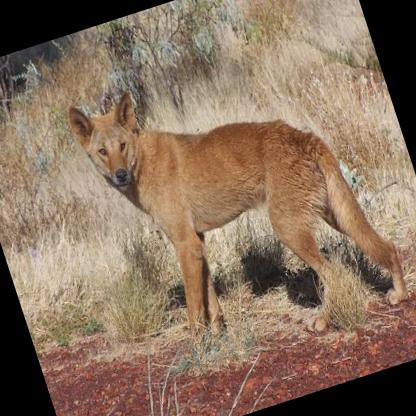dingo: (60, 19, 414, 388)
